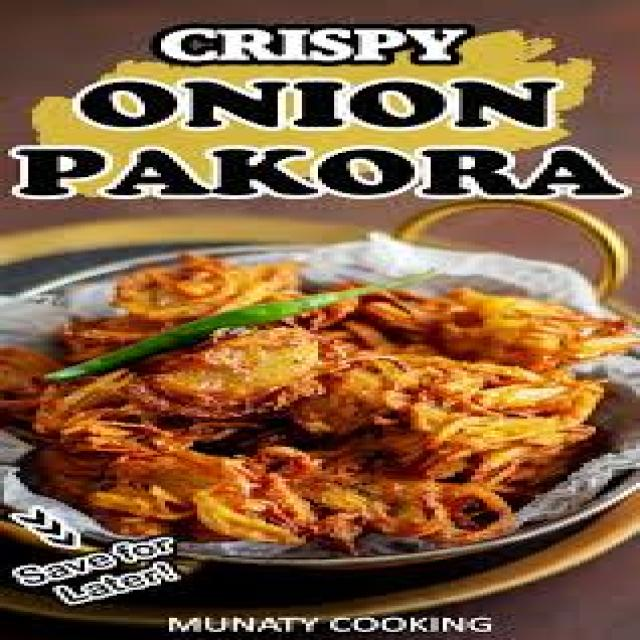BAJI: (0, 250, 628, 557)
